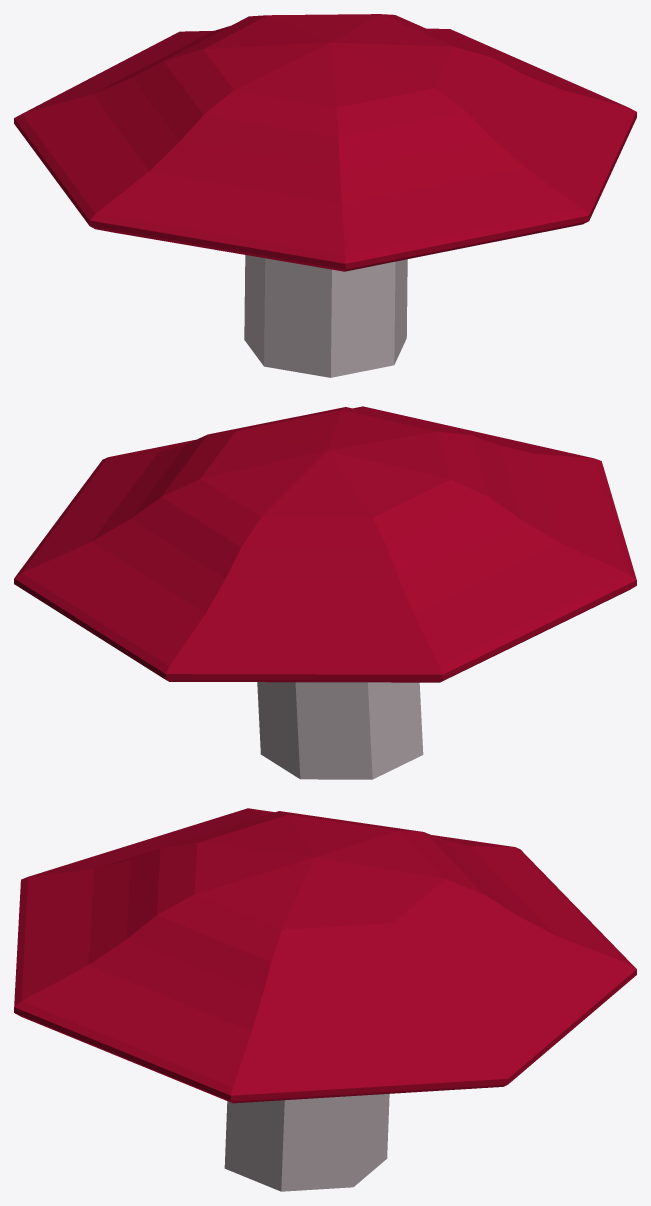
Rendered from Svamp.glb.
The picture shows the model from 3 angles, top to bottom: view 1: azimuth 30°, elevation 25°; view 2: azimuth 150°, elevation 25°; view 3: azimuth 270°, elevation 25°; orthographic projection.
Visible parts, largest first — view 1: Cylinder; view 2: Cylinder; view 3: Cylinder.
Part boxes in pixels (x1,y1,x2,y2): Cylinder: (14,14,636,377); Cylinder: (14,406,636,779); Cylinder: (14,808,636,1191).
Size of the model in its own units: 0.9747 by 0.5177 by 0.9554.
